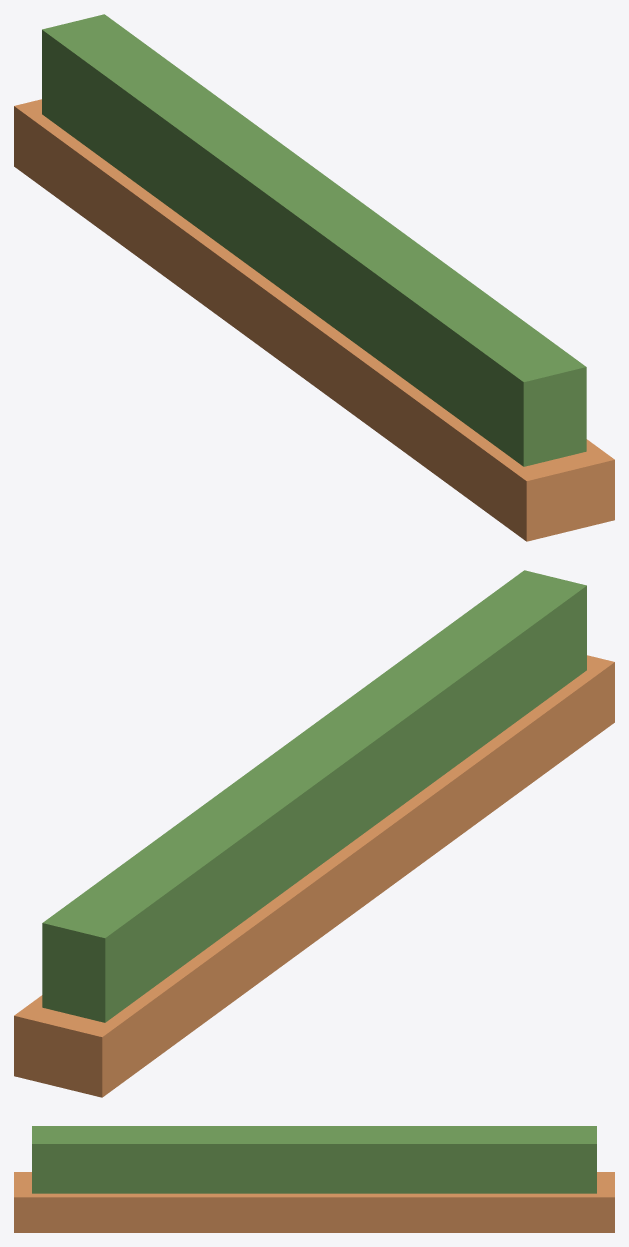
Rendered from Bush.fbx.
The picture shows the model from 3 angles, top to bottom: view 1: azimuth 30°, elevation 25°; view 2: azimuth 150°, elevation 25°; view 3: azimuth 270°, elevation 25°; orthographic projection. The views are drawn at different scales.
Parts seen in each view (by area): view 1: Bush; view 2: Bush; view 3: Bush.
Part boxes in pixels (x1=…): Bush: x1=14, y1=14, x2=614, y2=541; Bush: x1=14, y1=570, x2=614, y2=1097; Bush: x1=14, y1=1126, x2=614, y2=1232.
Bounding box in the file's own units: 48.19 × 75.68 × 485.
